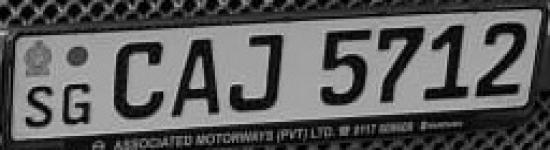1: (424, 20, 473, 102)
2: (474, 17, 530, 101)
5: (317, 22, 374, 110)
7: (375, 22, 428, 112)
A: (167, 34, 227, 122)
C: (109, 35, 168, 121)
G: (57, 78, 98, 128)
J: (228, 29, 288, 120)
S: (22, 81, 56, 132)
